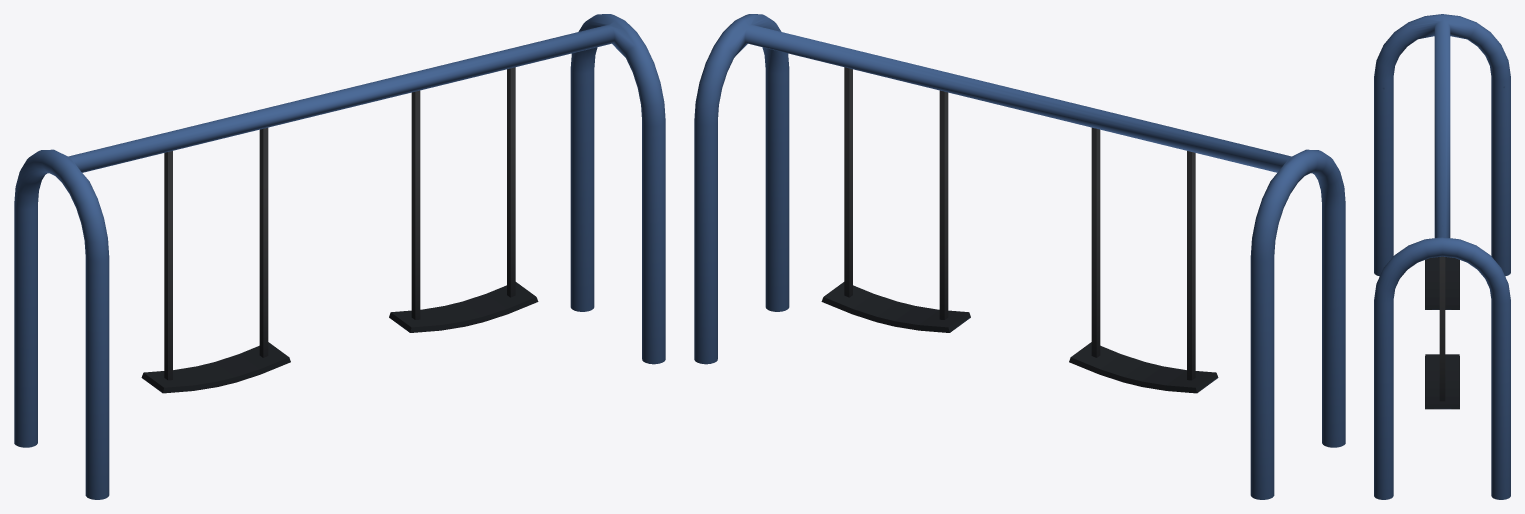
File: Swingset.fbx
3 views of the same model, side by side, from view 1: azimuth 30°, elevation 25°; view 2: azimuth 150°, elevation 25°; view 3: azimuth 270°, elevation 25° (orthographic). The views are drawn at different scales.
Visible parts, largest first — view 1: Swingset; view 2: Swingset; view 3: Swingset.
Part boxes in pixels (<box>): Swingset: <box>14,14,665,499</box>; Swingset: <box>694,14,1345,499</box>; Swingset: <box>1374,14,1510,499</box>.
Bounding box in the file's own units: 28 × 14.54 × 7.
Materials: 1 (1 with a texture image).
